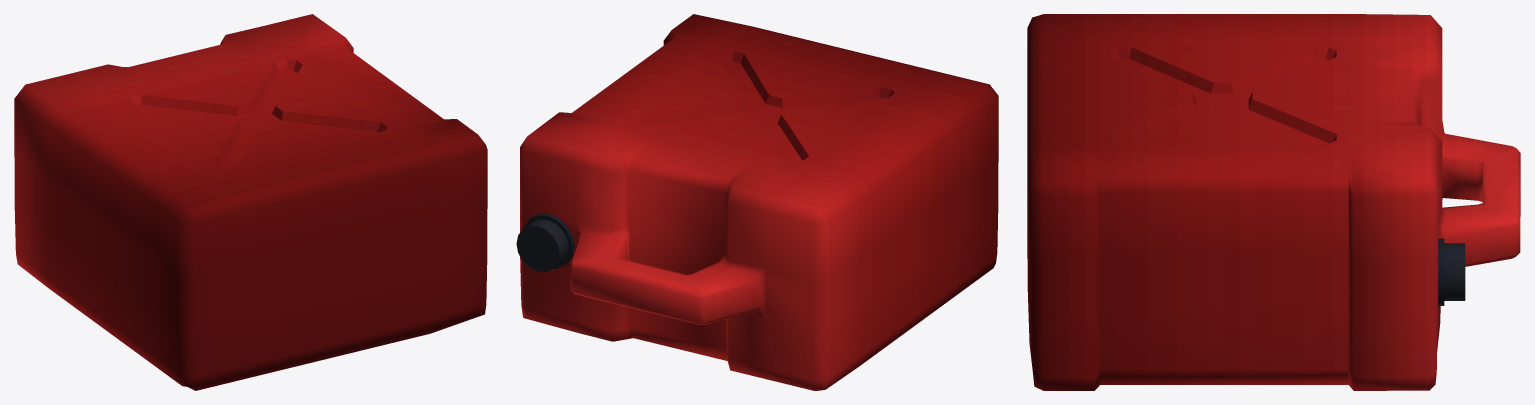
File: Big jug.fbx
3 renders of one model, left to right at view 1: azimuth 30°, elevation 25°; view 2: azimuth 150°, elevation 25°; view 3: azimuth 270°, elevation 25°, orthographic. The views are drawn at different scales.
Parts seen in each view (by area): view 1: Big Jug; view 2: Big Jug; view 3: Big Jug.
Boxes of the visible parts, box(x1,y1,x2,y2) form: Big Jug: box(14, 14, 487, 390); Big Jug: box(516, 14, 998, 390); Big Jug: box(1027, 14, 1520, 390).
Size of the model in its own units: 200 by 114 by 238.
1 material, 1 textured.
